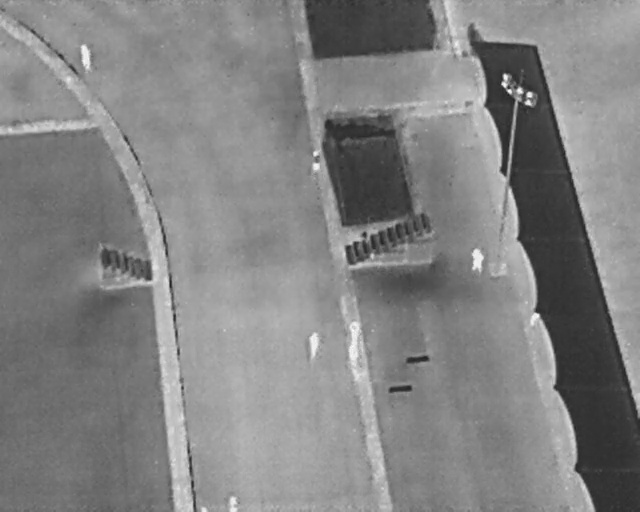Person: (307, 333, 320, 360), (470, 247, 484, 272), (79, 44, 92, 70), (226, 494, 241, 511), (348, 343, 357, 367), (351, 322, 362, 341)
